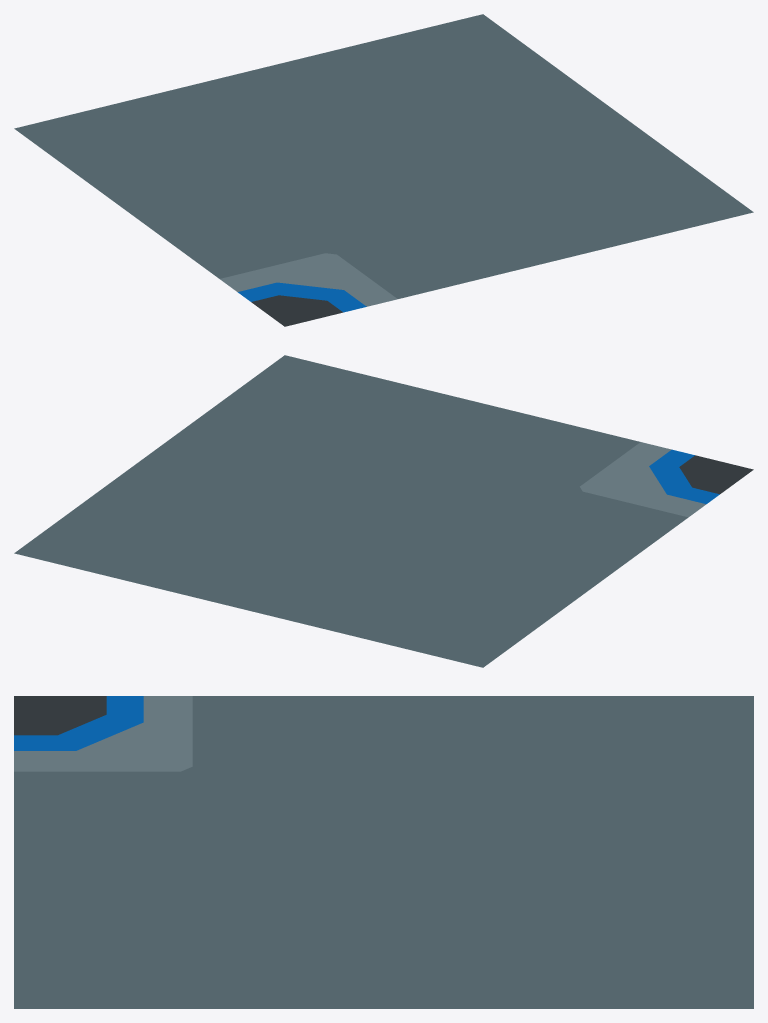
File: Ceiling_type_C_008.fbx
The picture shows the model from 3 angles, top to bottom: view 1: azimuth 30°, elevation 25°; view 2: azimuth 150°, elevation 25°; view 3: azimuth 270°, elevation 25°; orthographic projection. The views are drawn at different scales.
Visible parts, largest first — view 1: Ceiling_type_C_008; view 2: Ceiling_type_C_008; view 3: Ceiling_type_C_008.
Part boxes in pixels (x1=…): Ceiling_type_C_008: x1=14, y1=14, x2=753, y2=326; Ceiling_type_C_008: x1=14, y1=355, x2=753, y2=667; Ceiling_type_C_008: x1=14, y1=696, x2=753, y2=1008.
Size of the model in its own units: 400 by 400 by 4.55.
